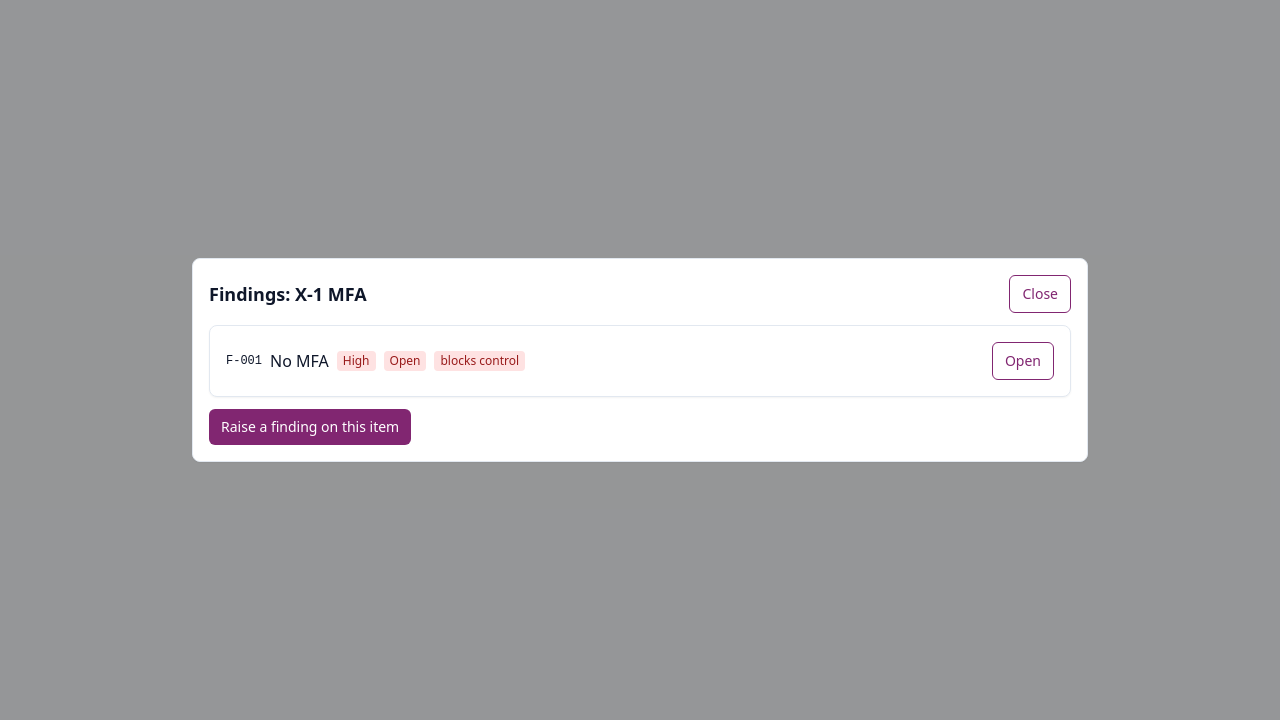
Test: per-item drawer lists the item findings and offers raising only when allowed
This screenshot has width=1280, height=720.
Expected: the text "No MFA" is shown, [270,349,329,373]
Expected: the button "Raise a finding on this item" is shown, [209,409,411,445]
Click the button with aria-label "Open F-001": {"x": 1023, "y": 361} [992,342,1054,380]
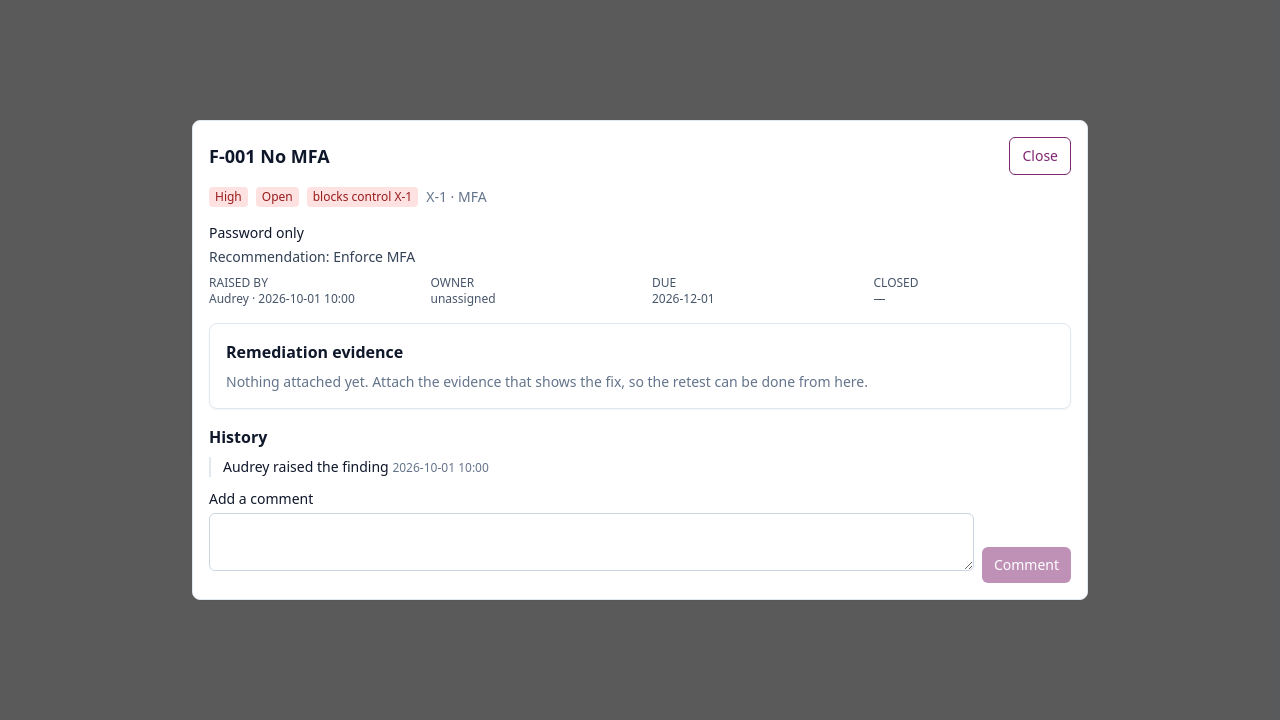
Expected: the text "Password only" is shown, [209,223,304,242]
